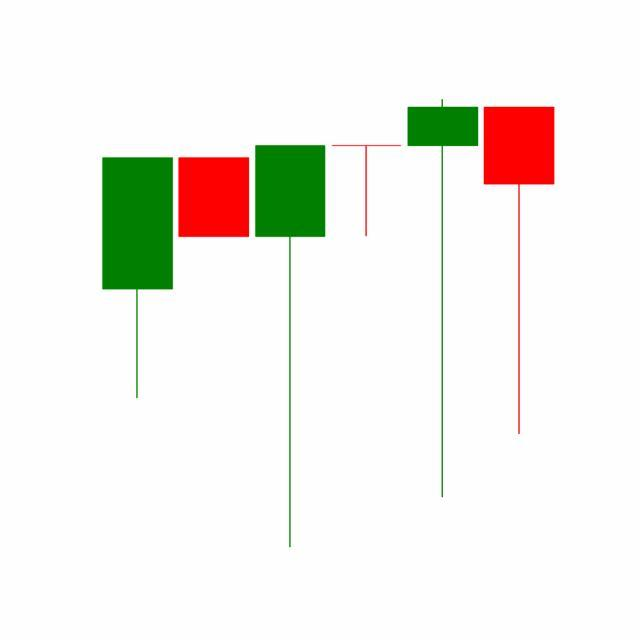Hanging Man: (404, 95, 482, 503)
